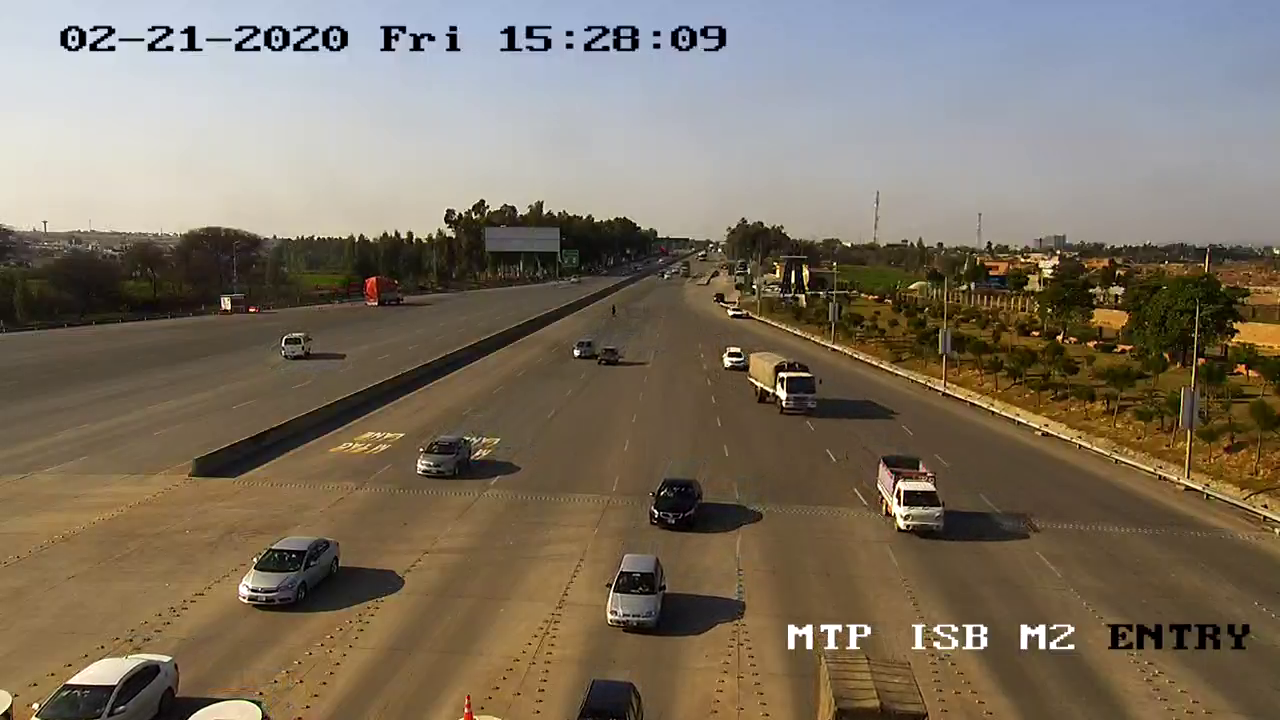f1: (231, 518, 348, 615), (589, 544, 674, 643), (411, 424, 483, 495), (642, 469, 712, 538)
f3: (867, 443, 957, 544)
f5: (729, 344, 828, 424)
